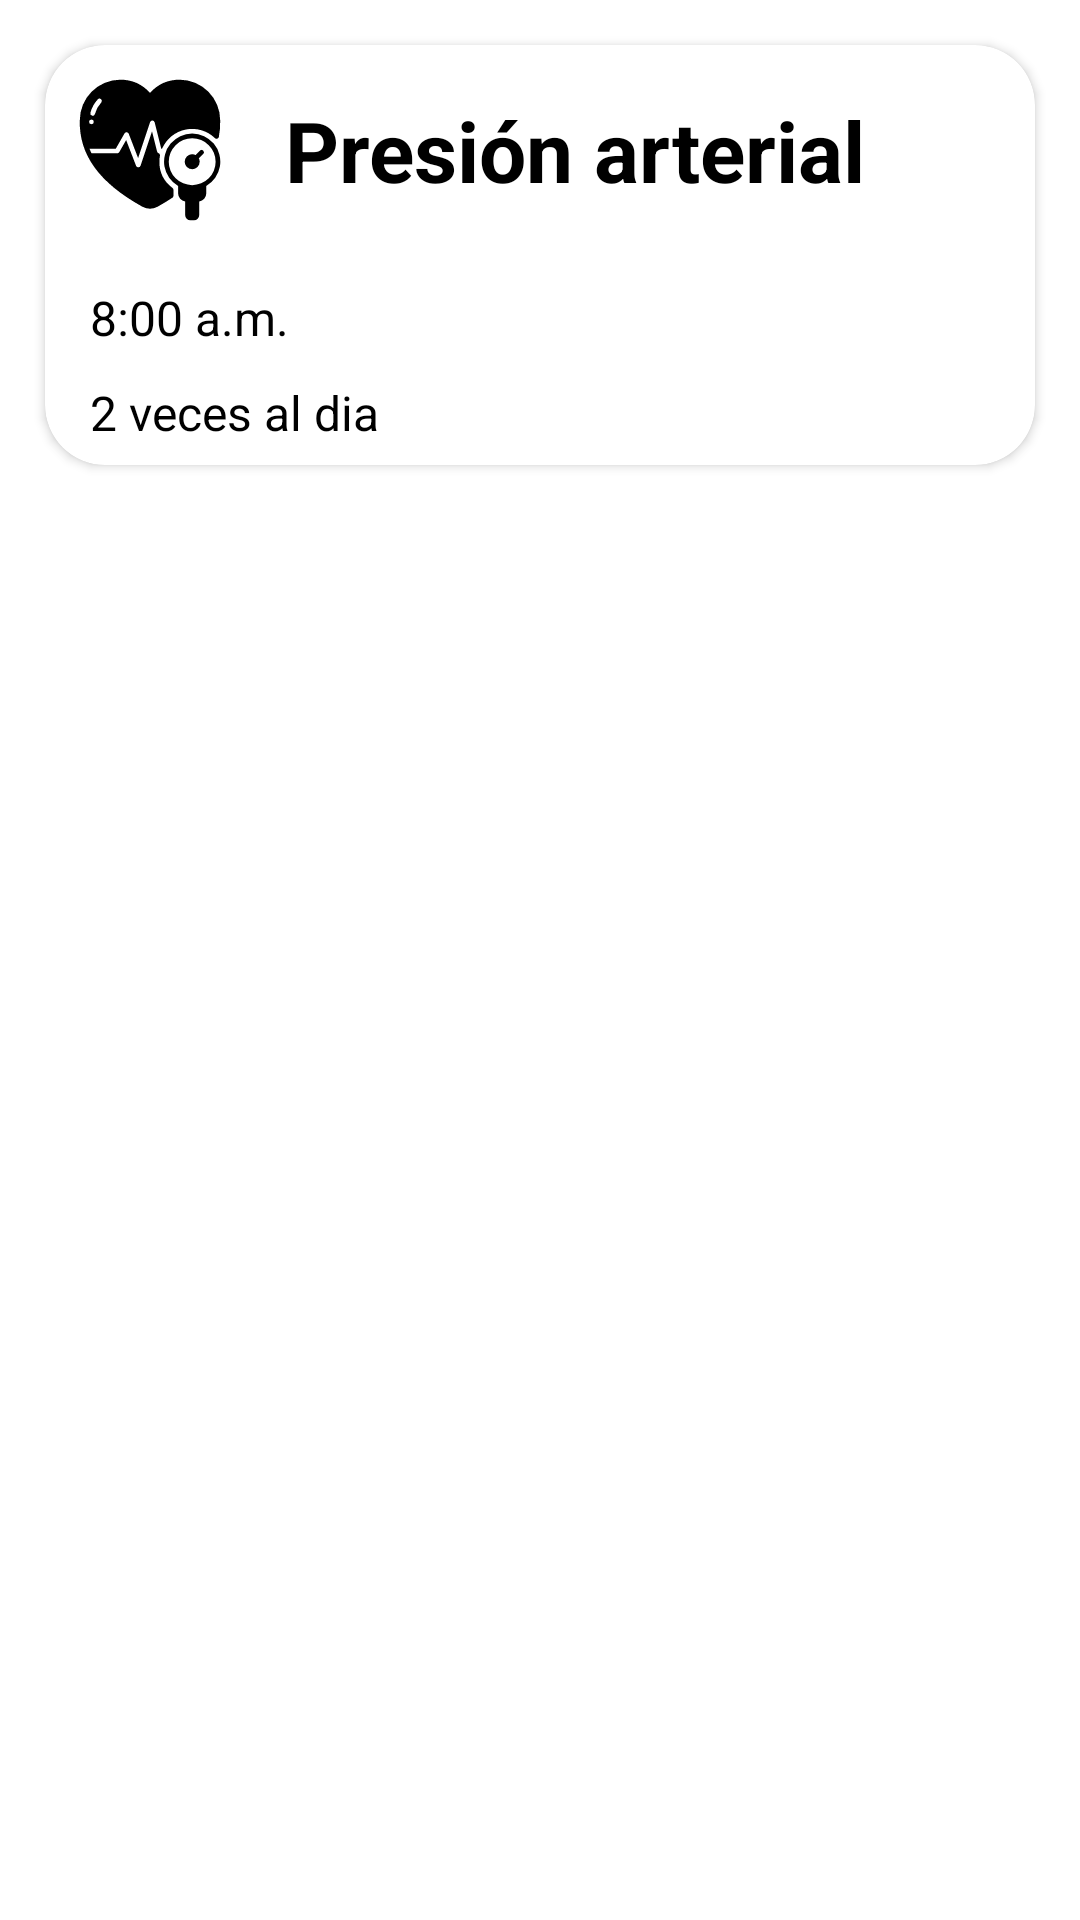

Icons on this 1080×1920 Android screen, each with the point to tap as point (x, y):
blood pressure: point (150, 150)
